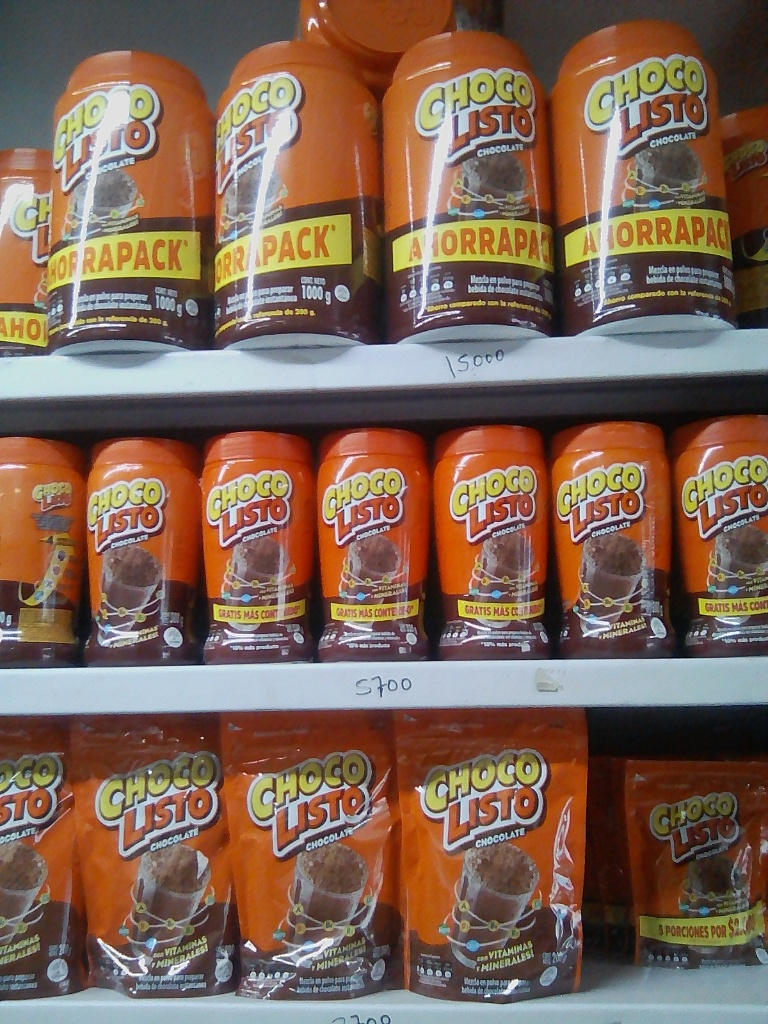COL0170103TRR00100: (548, 11, 733, 331)
